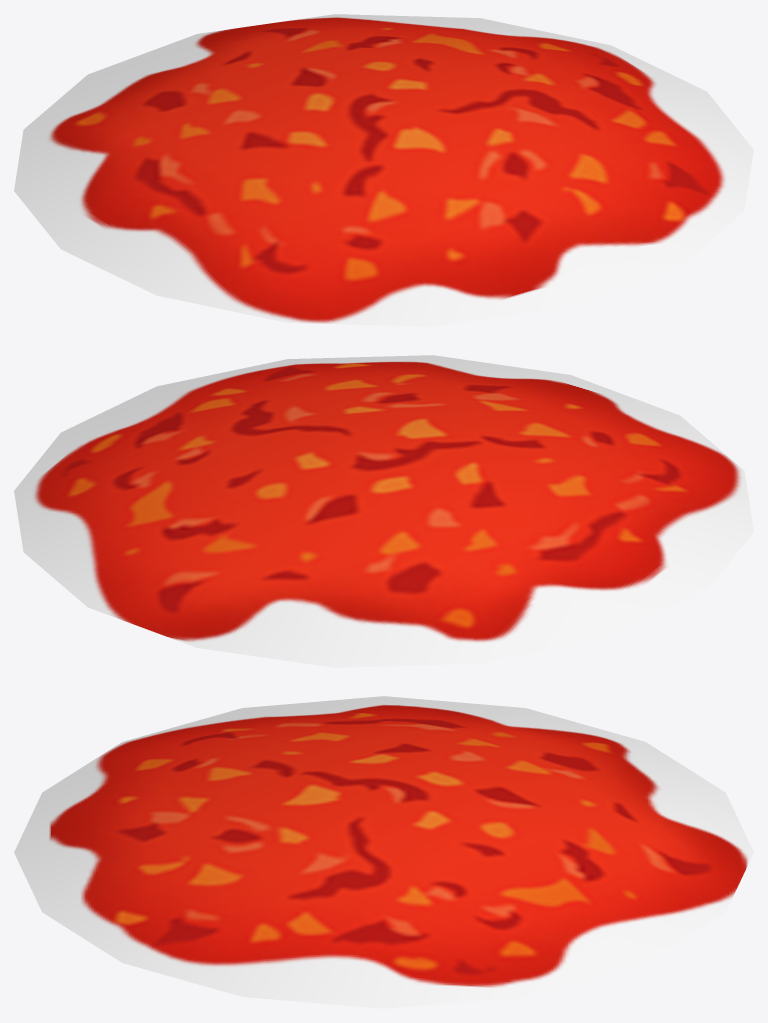
Rendered from bolognese.FBX.
The picture shows the model from 3 angles, top to bottom: view 1: azimuth 30°, elevation 25°; view 2: azimuth 150°, elevation 25°; view 3: azimuth 270°, elevation 25°; orthographic projection.
Parts seen in each view (by area): view 1: Object239; view 2: Object239; view 3: Object239.
Part boxes in pixels (x1,y1,x2,y2): Object239: (14, 14, 753, 326); Object239: (14, 355, 753, 667); Object239: (14, 696, 753, 1008).
Size of the model in its own units: 1.57 by 0.1402 by 1.57.
